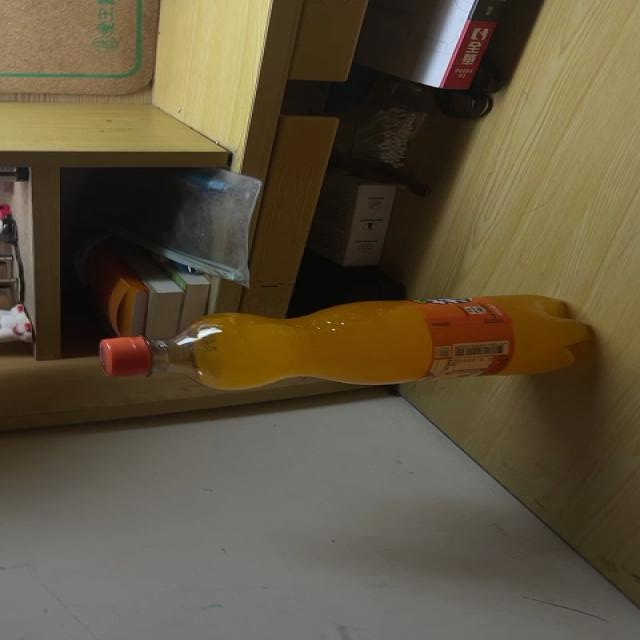Fanta: (100, 292, 596, 391)
